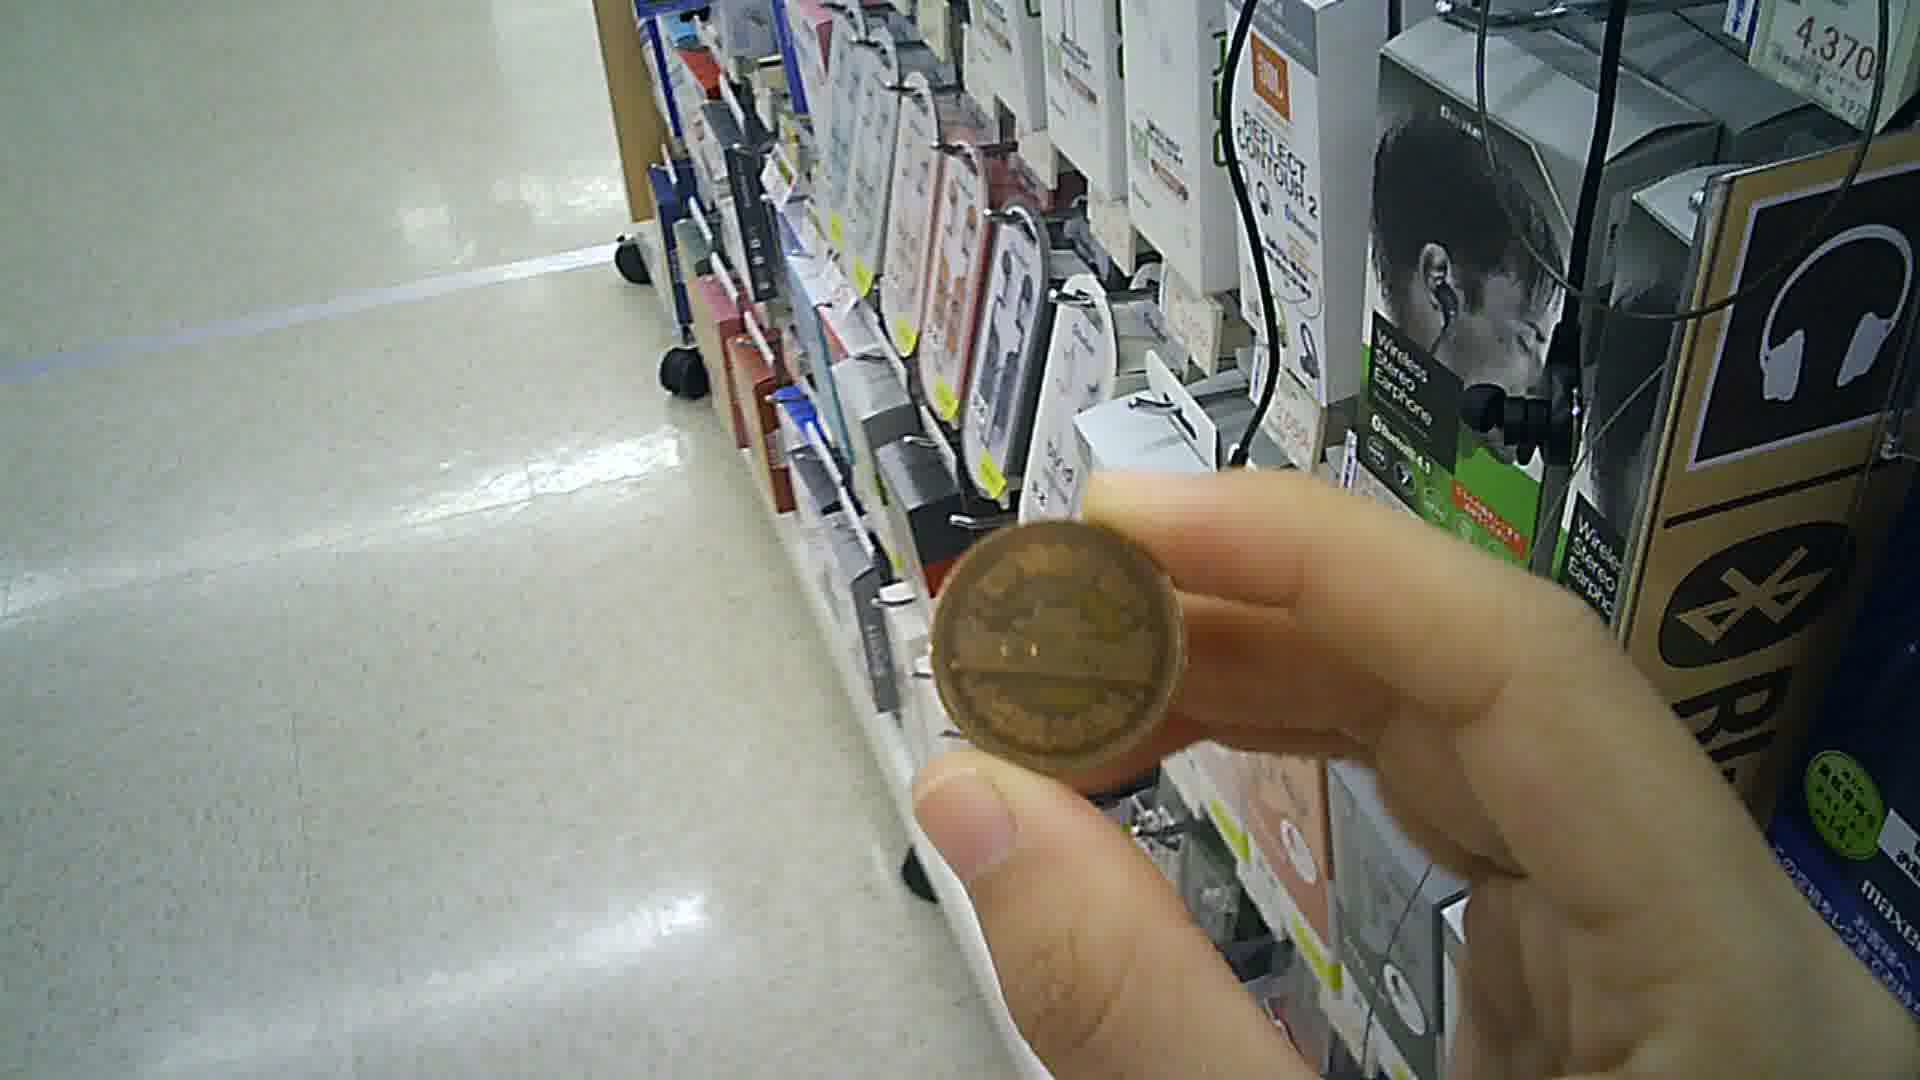10 Yen: (934, 506, 1216, 775)
